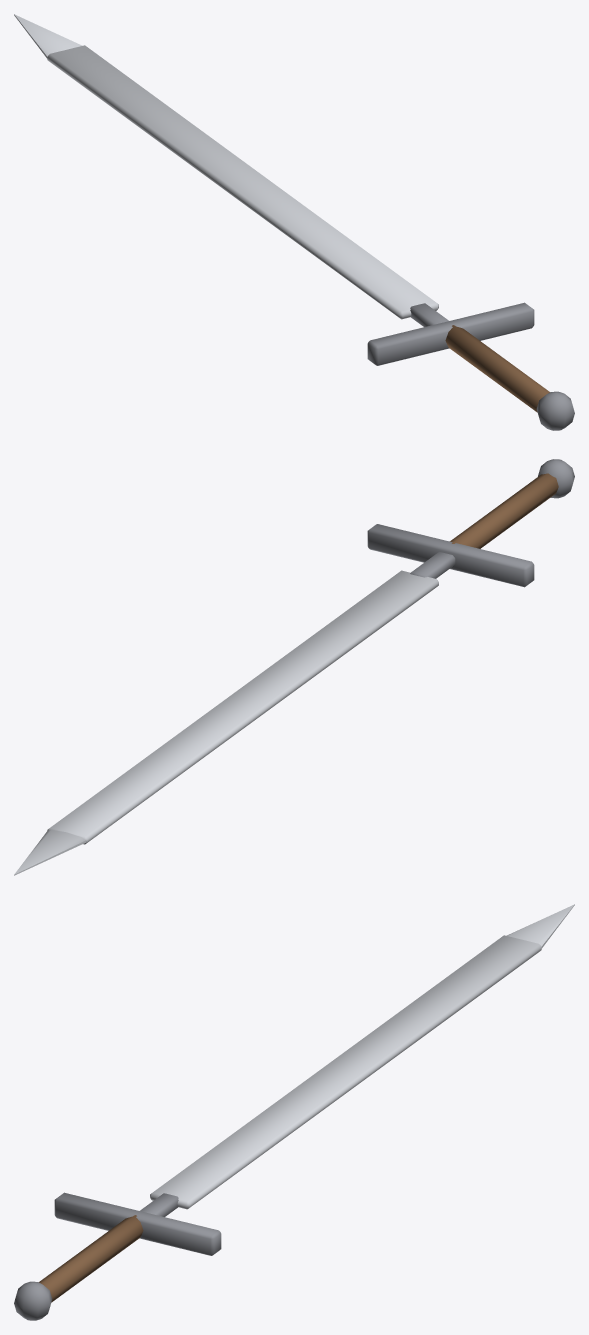
The model's file is weapons_greatsword.glb.
3 renders of one model, top to bottom at view 1: azimuth 30°, elevation 25°; view 2: azimuth 150°, elevation 25°; view 3: azimuth 330°, elevation 25°, orthographic.
Visible parts, largest first — view 1: weapons_greatsword; view 2: weapons_greatsword; view 3: weapons_greatsword.
Part boxes in pixels (x1,y1,x2,y2): weapons_greatsword: [14, 14, 574, 430]; weapons_greatsword: [14, 459, 574, 875]; weapons_greatsword: [14, 904, 574, 1320].
Size of the model in its own units: 0.26 by 0.056 by 1.56.
